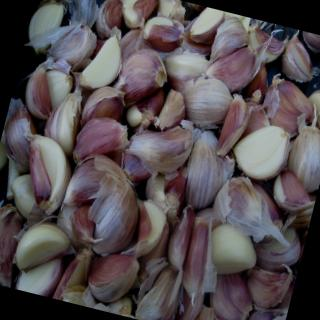Bawang Putih: (226, 108, 303, 196)
